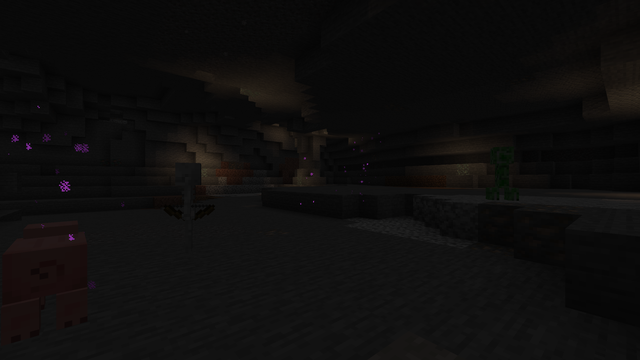cochons: (4, 229, 99, 337)
creepers: (487, 143, 515, 200)
squelettes: (171, 162, 205, 254)
